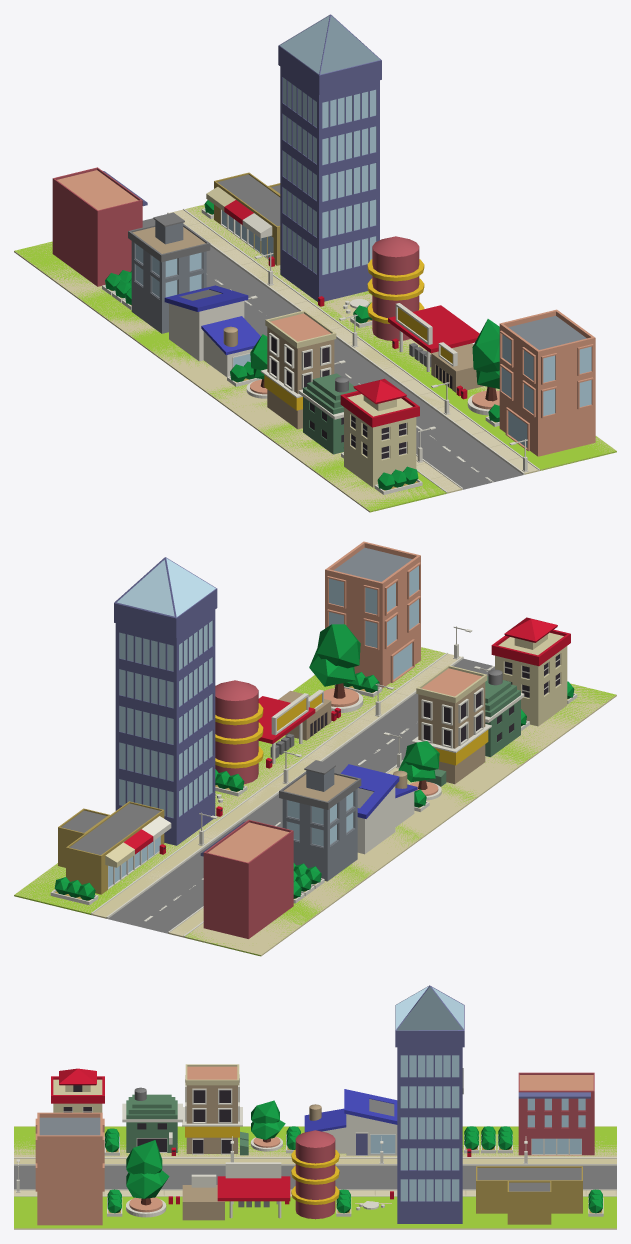
The picture shows the model from 3 angles, top to bottom: view 1: azimuth 30°, elevation 25°; view 2: azimuth 150°, elevation 25°; view 3: azimuth 270°, elevation 25°; orthographic projection. The views are drawn at different scales.
Visible parts, largest first — view 1: 立方体_14, 立方体_16, 立方体_2, 立方体_12, 立方体_4, 平面_1, 立方体_6, 油桶_2, 立方体_21, 立方体_22, 立方体, 平面_2_2 (+17 smaller); view 2: 立方体_14, 立方体_2, 立方体_16, 立方体_3, 立方体_12, 平面_1, 立方体_21, 立方体_23, 立方体_6, 立方体, 立方体_22, 立方体_11 (+19 smaller); view 3: 立方体_14, 立方体, 立方体_16, 立方体_12, 立方体_23, 立方体_21, 立方体_2, 油桶_2, 立方体_22, 平面_1, 平面_2_2, 圆柱 (+23 smaller).
Boxes of the visible parts, x1,y1,x2,y2 form: 立方体_14: (280,67,379,301); 立方体_16: (499,309,595,456); 立方体_2: (14,241,462,512); 立方体_12: (52,167,142,286); 立方体_4: (15,241,446,512); 平面_1: (142,218,522,488); 立方体_6: (340,378,419,487); 油桶_2: (164,285,260,376); 立方体_21: (260,310,336,429); 立方体_22: (278,14,381,94); 立方体: (186,204,616,470); 平面_2_2: (143,218,522,489); 立方体_14: (115,610,215,845); 立方体_2: (168,683,616,956); 立方体_16: (325,541,420,688); 立方体_3: (14,647,459,918); 立方体_12: (203,819,293,938); 平面_1: (108,658,494,933); 立方体_21: (411,665,491,784); 立方体_23: (58,801,164,894); 立方体_6: (491,617,570,726); 立方体: (14,647,445,914); 立方体_22: (114,557,217,637); 立方体_11: (282,788,357,881); 立方体_14: (397,1047,462,1223); 立方体: (14,1196,616,1228); 立方体_16: (35,1112,104,1225); 立方体_12: (518,1072,594,1155); 立方体_23: (476,1166,582,1224); 立方体_21: (182,1064,242,1154); 立方体_2: (14,1126,616,1163); 油桶_2: (304,1089,397,1155); 立方体_22: (395,985,464,1047); 平面_1: (14,1166,616,1189); 平面_2_2: (14,1166,616,1188); 圆柱: (295,1130,335,1219).
Size of the model in its own units: 4010 by 4164 by 10000.
Materials: 20 (1 with a texture image).
